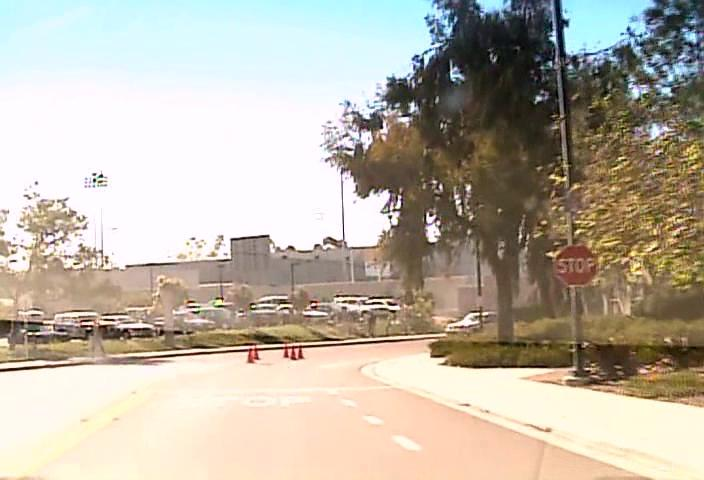stop: (553, 243, 597, 287)
